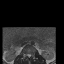CCS_normal: (28, 52, 29, 59)
LFS_stenosis: (31, 52, 32, 57)
LLS_normal: (29, 52, 31, 57)
RFS_stenosis: (25, 52, 26, 57)
RLS_normal: (26, 52, 28, 57)
